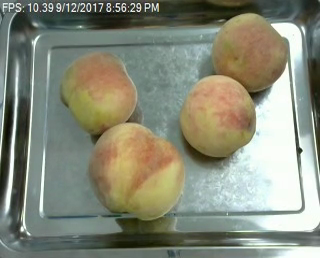Peach: (87, 121, 184, 219), (60, 50, 138, 134), (179, 74, 257, 158), (210, 11, 288, 92)
